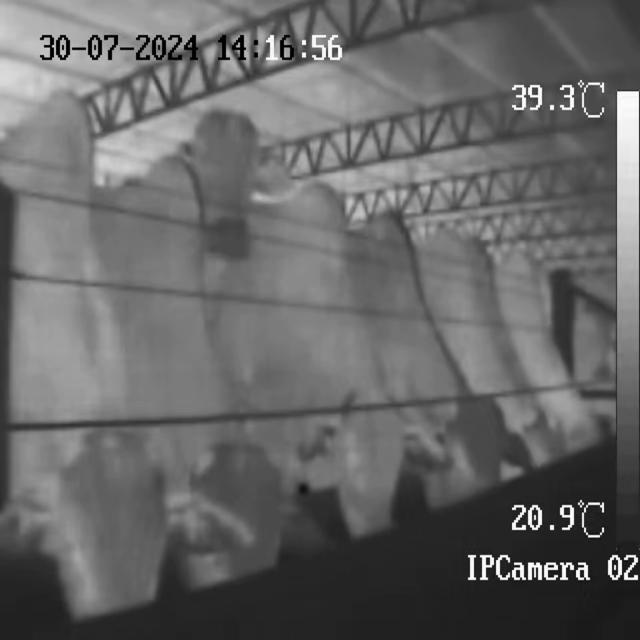eye: (59, 512, 85, 572), (343, 438, 363, 476), (450, 439, 470, 473)
head: (44, 422, 170, 598), (328, 394, 404, 528), (428, 398, 517, 494)
